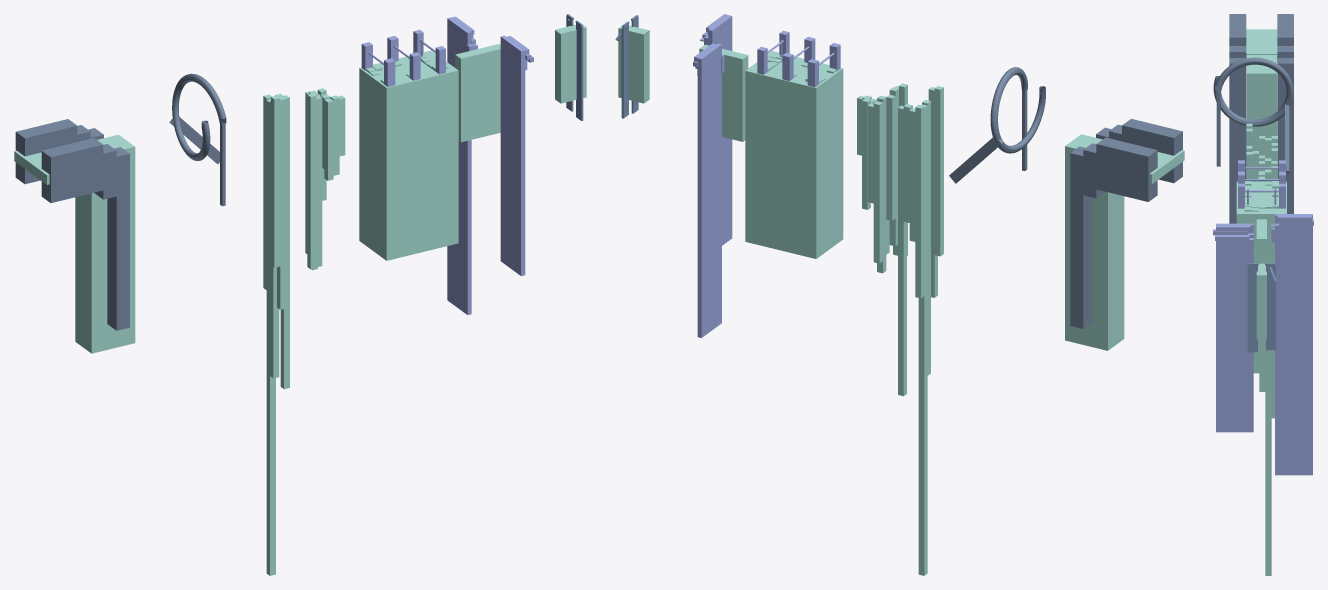
File: level1(try2).fbx
The picture shows the model from 3 angles, left to right: view 1: azimuth 30°, elevation 25°; view 2: azimuth 150°, elevation 25°; view 3: azimuth 270°, elevation 25°; orthographic projection. The views are drawn at different scales.
Parts seen in each view (by area): view 1: Cube.024, Cube.068, Cube.042, Floor.001, Cube.041, Cube.075, Cube.070, Cube.064, Floor, Cube.071, Cube.059, Cube.067 (+9 smaller); view 2: Cube.024, Cube.041, Cube.068, Cube.073, Cube.064, Cube.071, Cube.060, Floor.001, Cube.063, Floor, Cube.042, Cube.070 (+10 smaller); view 3: Cube.041, Cube.042, Cube.024, Cube.068, Cube.075, Cylinder, Cube.064, Cube.073, Cube.003, Cube.069, Floor, Cube.001 (+20 smaller).
Part boxes in pixels (<box>): Cube.024: <box>359,50,458,260</box>; Cube.068: <box>75,134,135,353</box>; Cube.042: <box>500,35,525,275</box>; Floor.001: <box>455,44,500,142</box>; Cube.041: <box>447,17,471,314</box>; Cube.075: <box>107,147,129,330</box>; Cube.070: <box>41,138,103,202</box>; Cube.064: <box>266,99,275,575</box>; Floor: <box>555,24,586,103</box>; Cube.071: <box>15,119,77,184</box>; Cube.059: <box>307,93,316,269</box>; Cube.067: <box>271,95,280,267</box>; Cube.024: <box>745,51,843,258</box>; Cube.041: <box>697,43,721,337</box>; Cube.068: <box>1065,134,1124,350</box>; Cube.073: <box>1070,146,1092,328</box>; Cube.064: <box>918,104,927,575</box>; Cube.071: <box>1096,137,1157,201</box>; Cube.060: <box>898,105,906,396</box>; Floor.001: <box>699,44,748,141</box>; Cube.063: <box>915,104,924,298</box>; Floor: <box>618,25,649,103</box>; Cube.042: <box>708,15,732,245</box>; Cube.070: <box>1122,118,1182,183</box>; Cube.041: <box>1275,214,1312,475</box>; Cube.042: <box>1216,223,1253,432</box>; Cube.024: <box>1236,181,1286,373</box>; Cube.068: <box>1246,55,1276,155</box>; Cube.075: <box>1229,58,1246,223</box>; Cylinder: <box>1213,57,1293,126</box>; Cube.064: <box>1265,138,1271,575</box>; Cube.073: <box>1277,58,1293,213</box>; Cube.003: <box>1247,270,1257,352</box>; Cube.069: <box>1246,29,1277,62</box>; Floor: <box>1256,263,1266,339</box>; Cube.001: <box>1266,270,1275,350</box>.
Bounding box in the file's own units: 64727 × 58411 × 11107.
